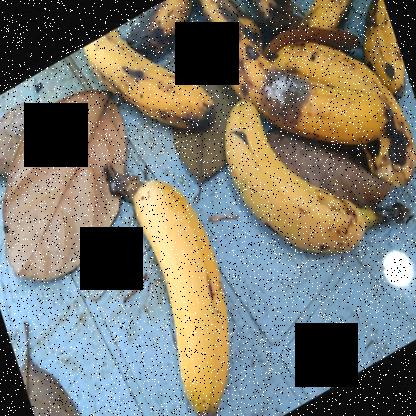freshripe: (116, 169, 250, 415)
ripe: (220, 114, 395, 262), (62, 36, 211, 138)
rotten: (216, 15, 400, 147)
